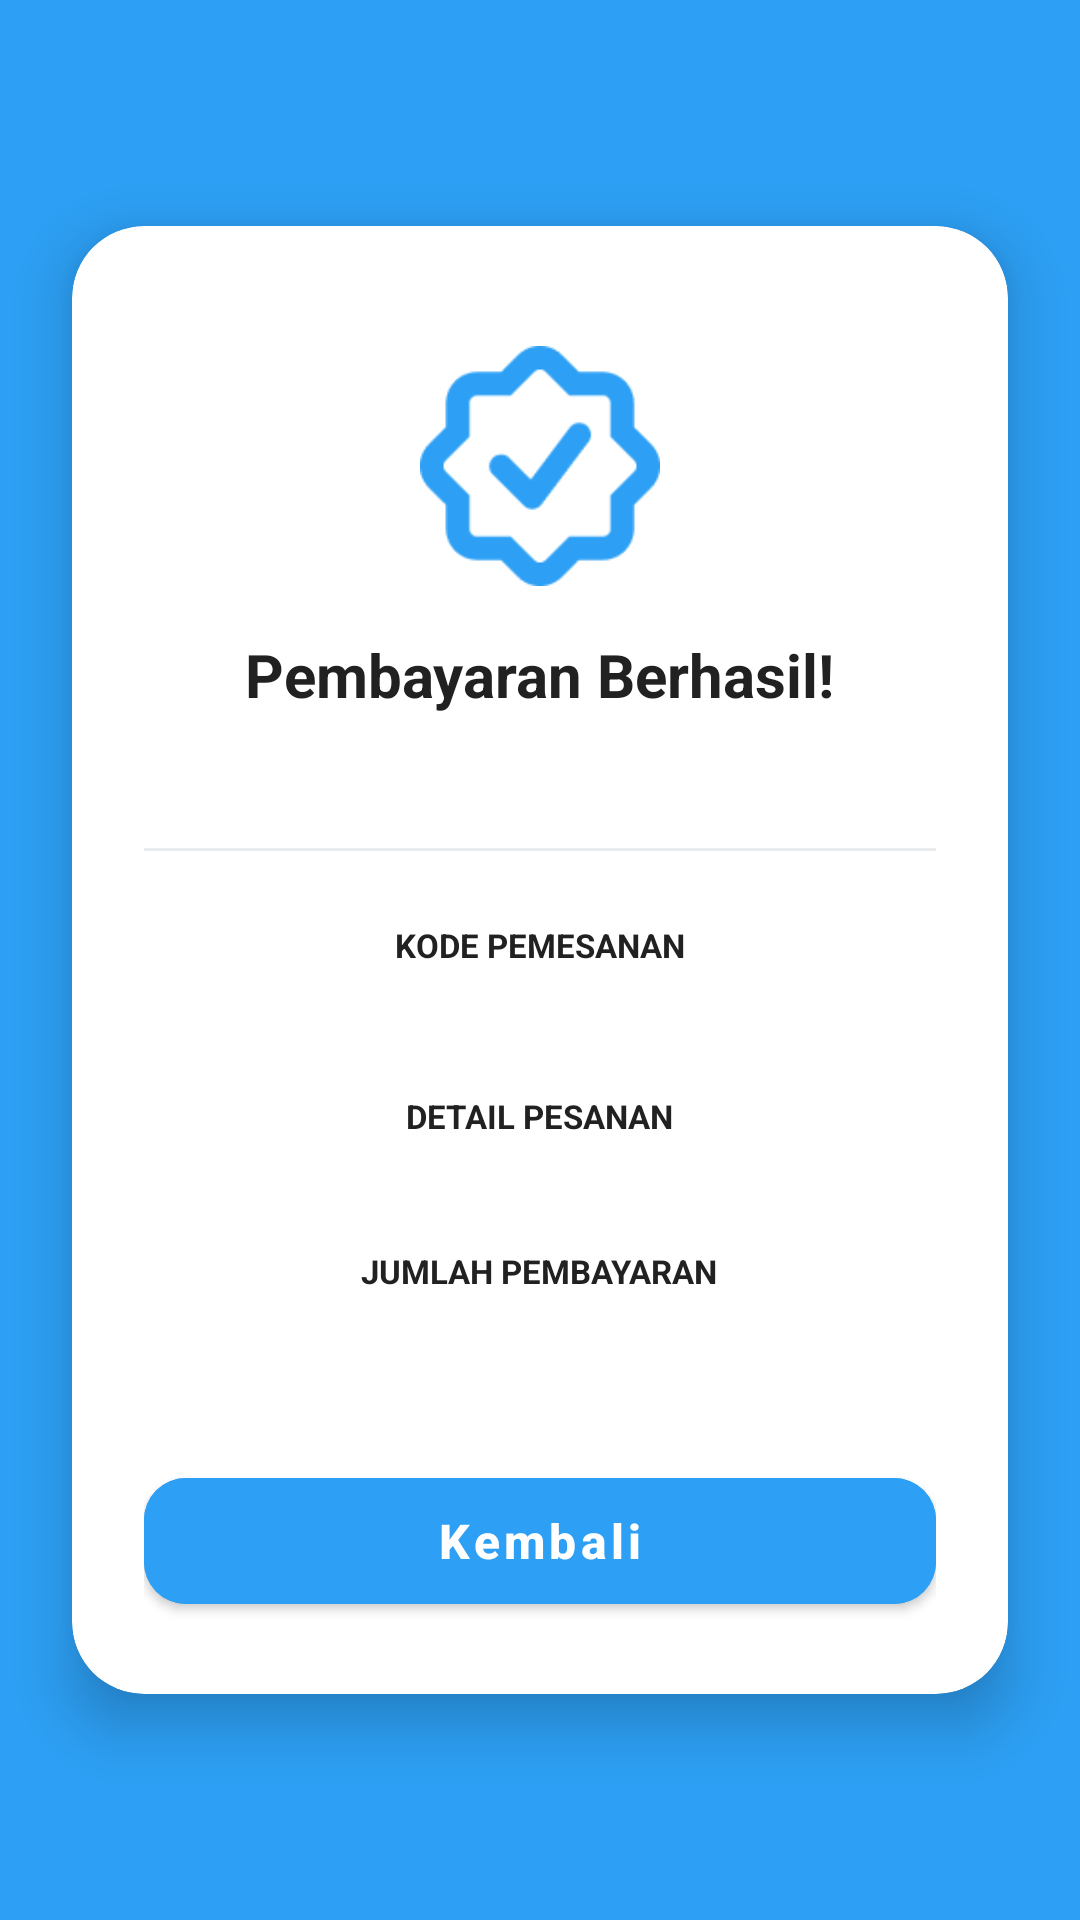

Where to tap for icons on this 1080 x 1920 app screen, as point (x, y):
check success: point (540, 466)
